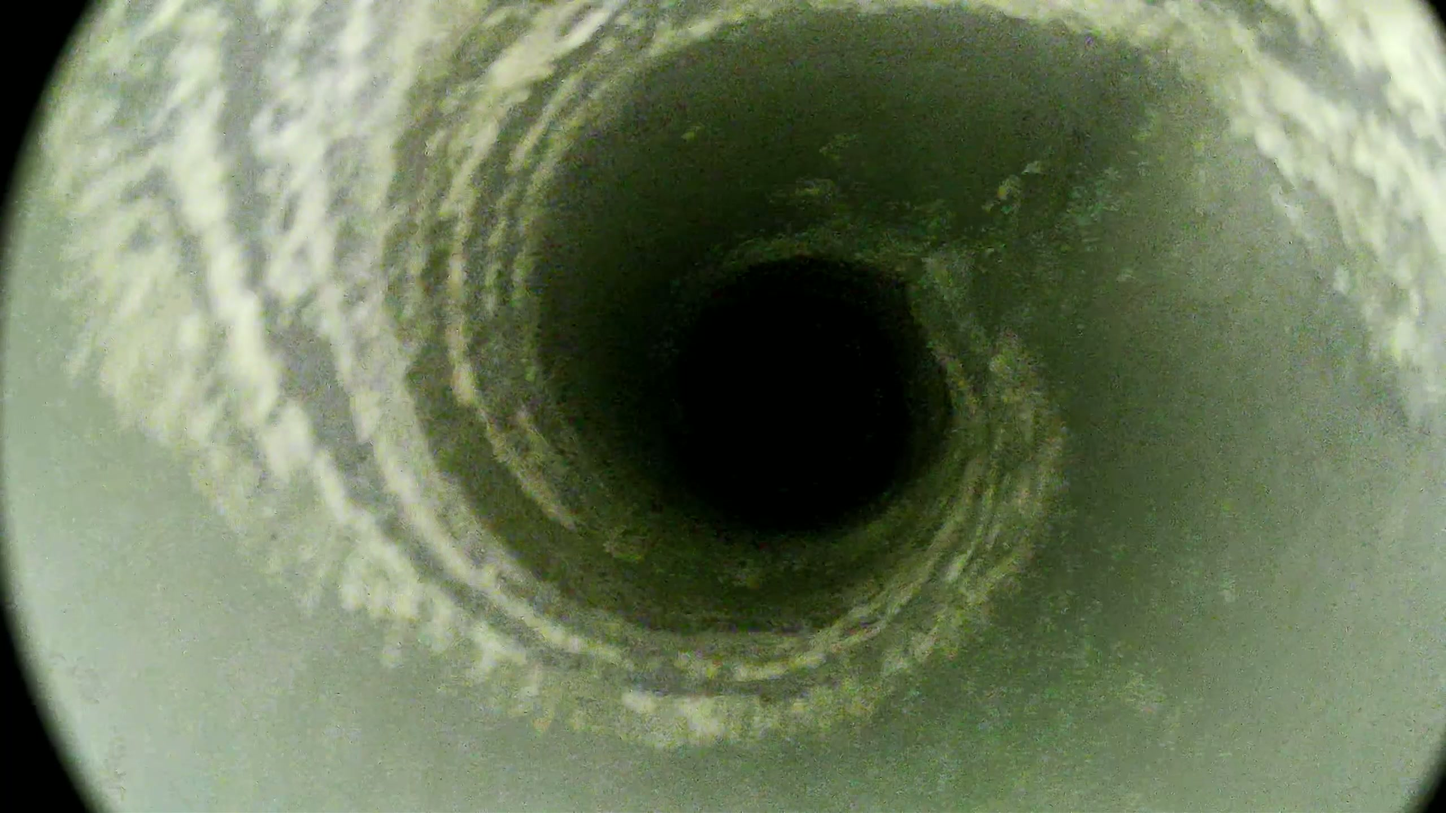hole: (668, 295, 904, 527)
